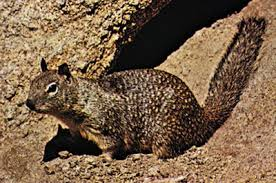squirrel: (27, 57, 224, 161)
